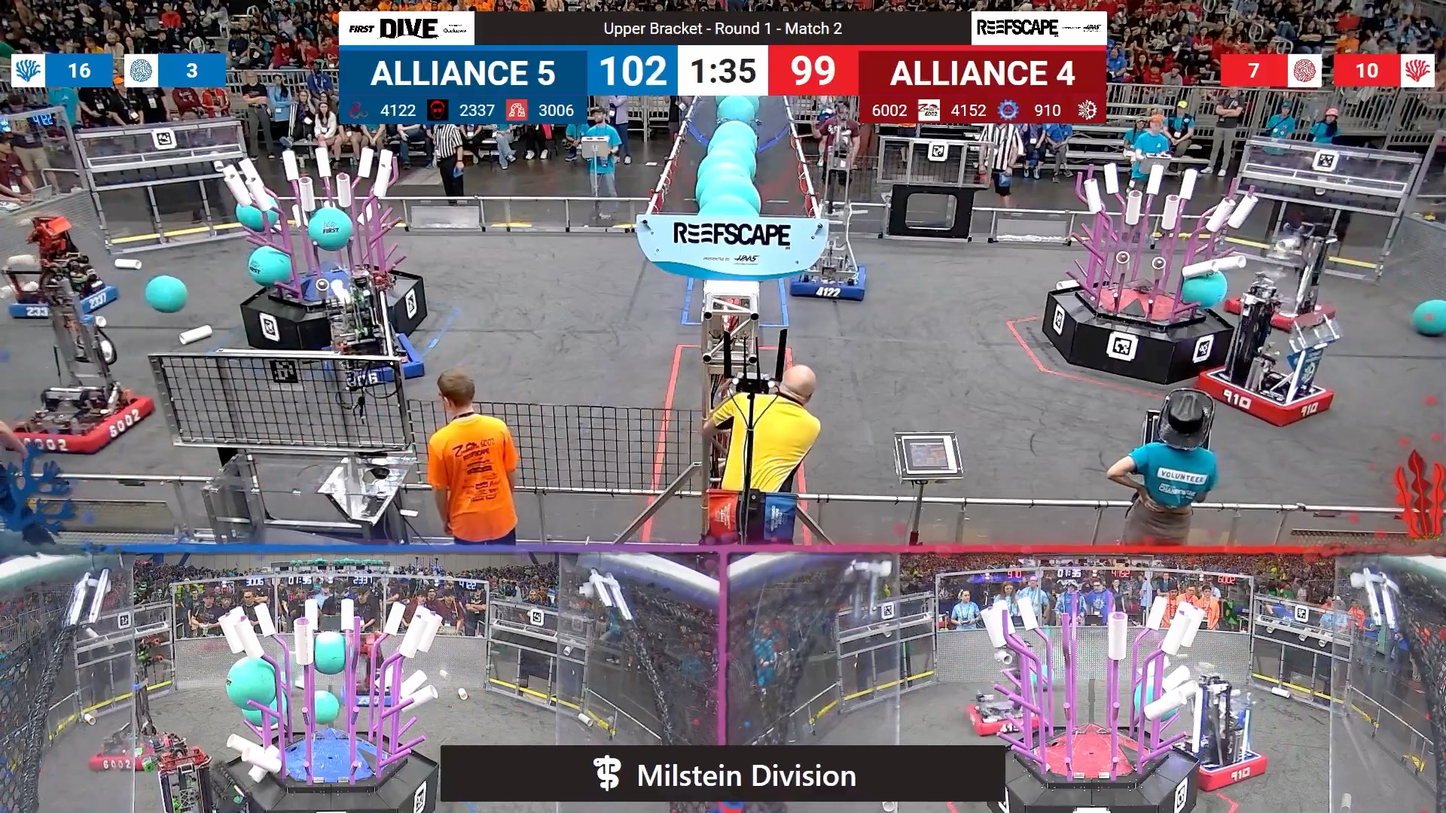bumpers: (10, 388, 158, 458), (1192, 370, 1341, 430), (3, 272, 122, 325), (318, 333, 426, 387), (85, 727, 199, 776), (1225, 290, 1341, 334), (1172, 744, 1271, 790), (782, 262, 874, 303)
